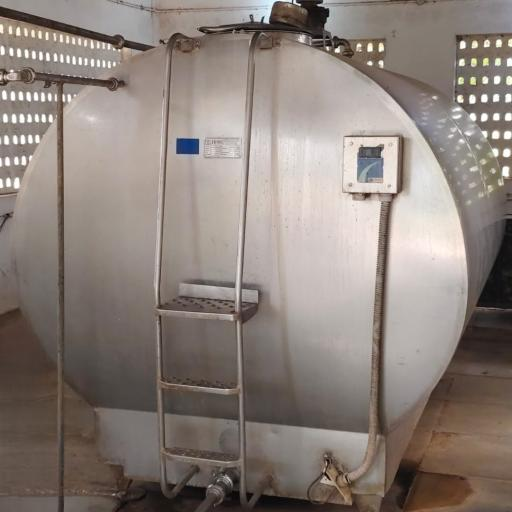silo: (9, 16, 509, 501)
